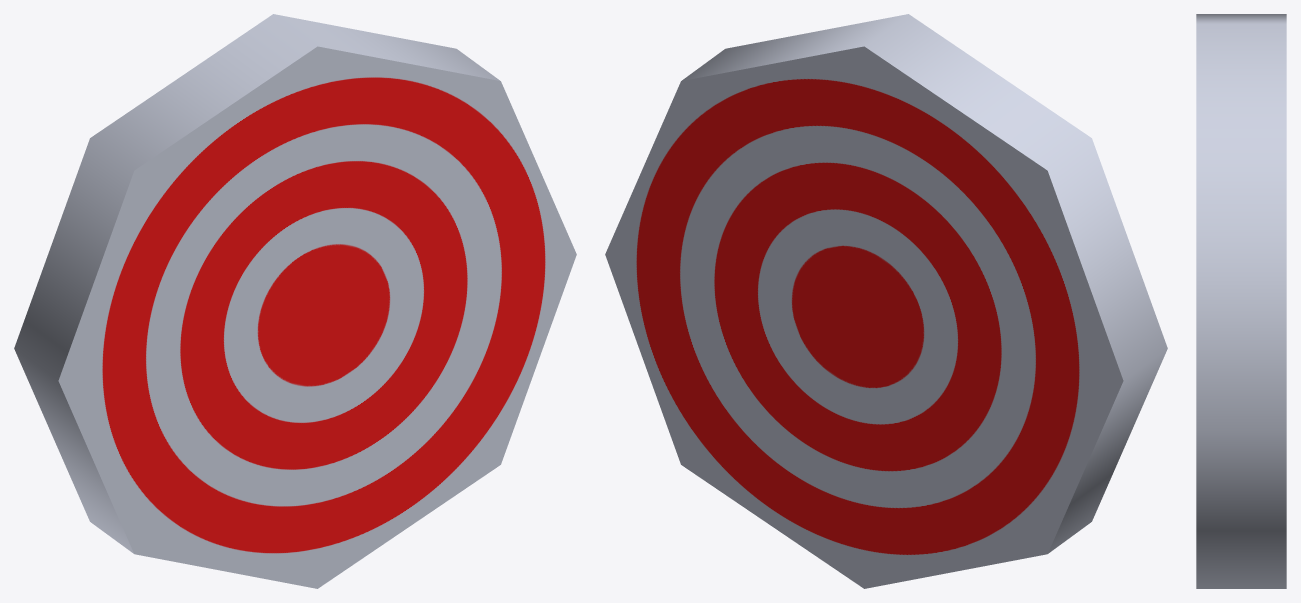
The model's file is Target.FBX.
3 renders of one model, left to right at view 1: azimuth 30°, elevation 25°; view 2: azimuth 150°, elevation 25°; view 3: azimuth 270°, elevation 25°, orthographic. The views are drawn at different scales.
Parts seen in each view (by area): view 1: Cylinder101; view 2: Cylinder101; view 3: Cylinder101.
Boxes of the visible parts, x1,y1,x2,y2 form: Cylinder101: (14,14,576,588); Cylinder101: (605,14,1167,588); Cylinder101: (1196,14,1286,588).
Bounding box in the file's own units: 26.04 × 26.04 × 3.85.
Materials: 1 (1 with a texture image).
